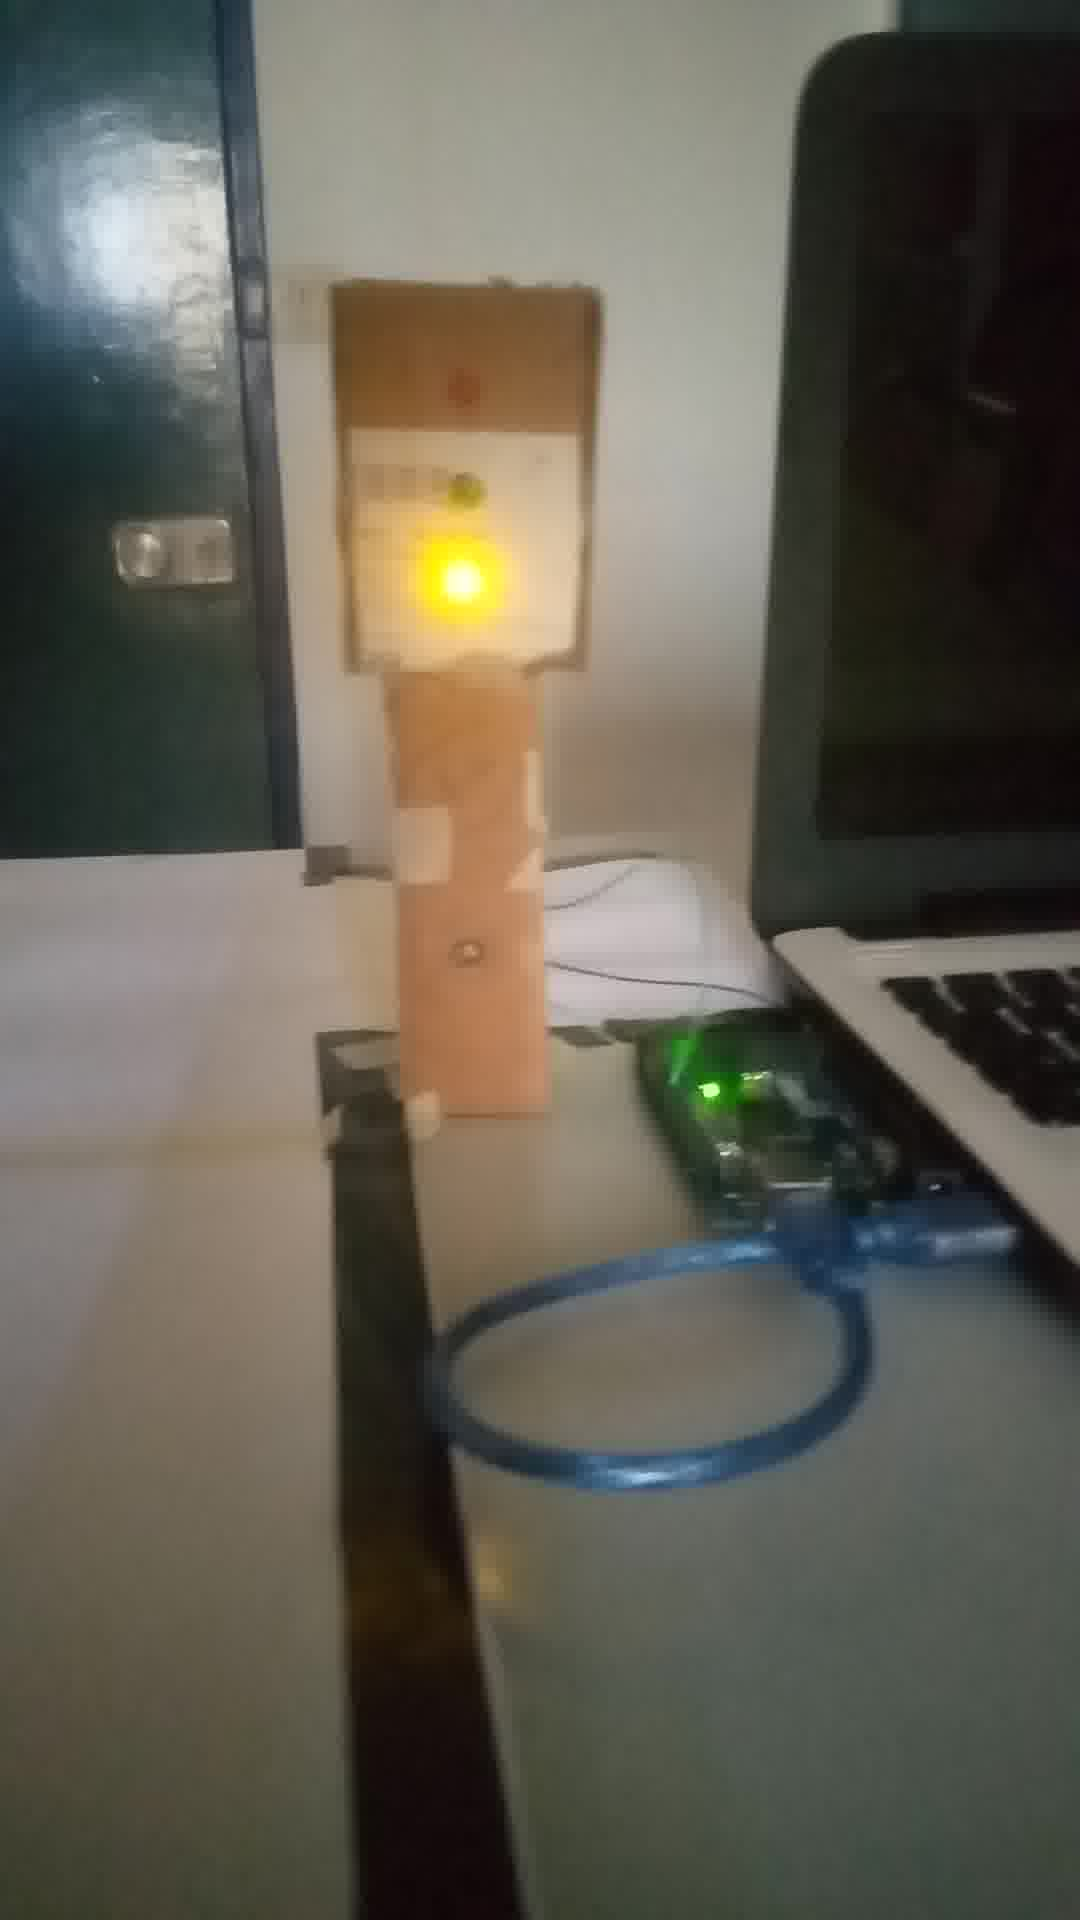green: (335, 280, 584, 676)
